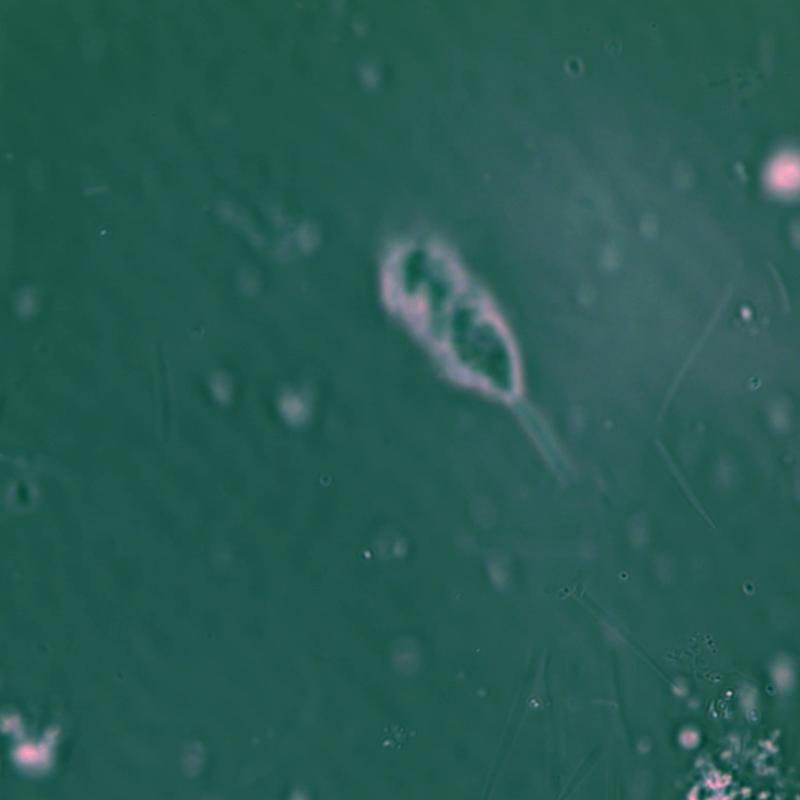depth:80: (353, 209, 597, 505)
